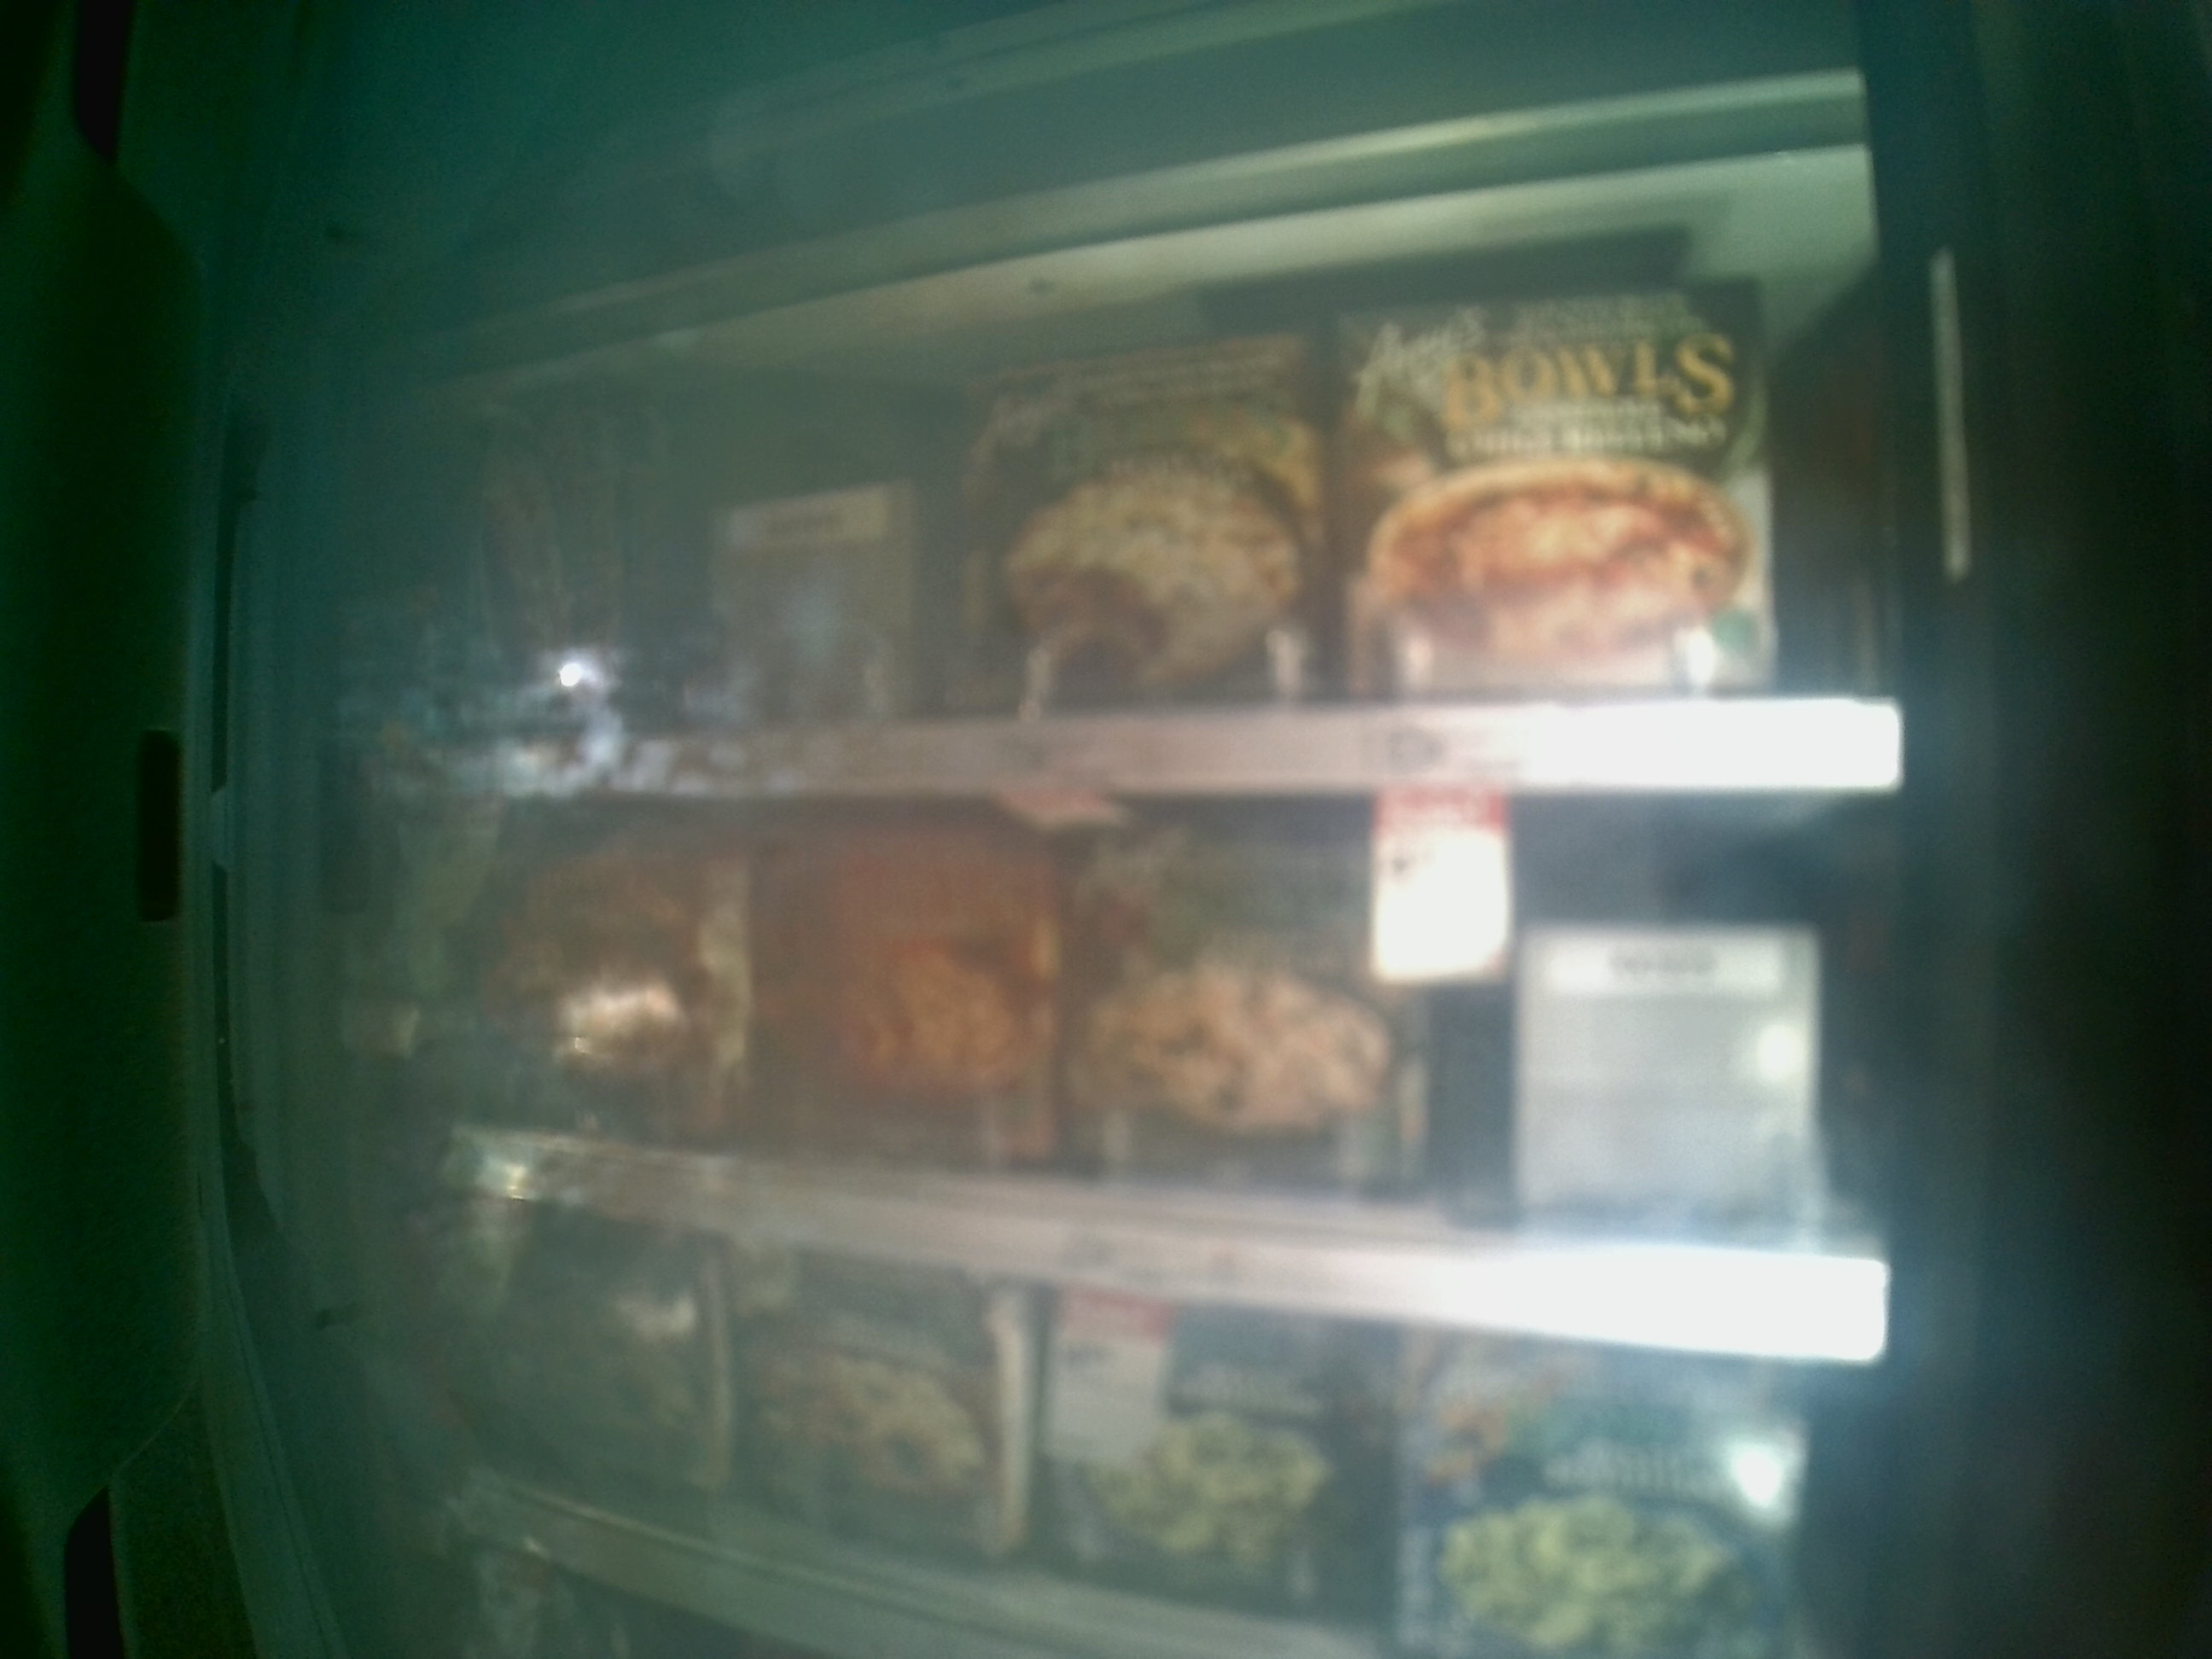frozen-food-shelf: (340, 791, 1892, 1368)
